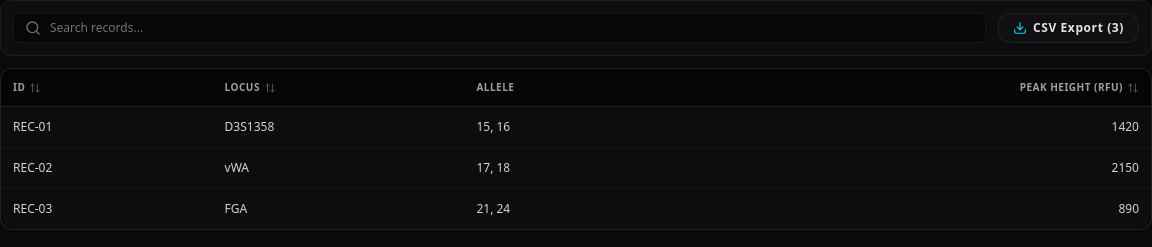
DataTable Primitive UI Component › shows empty message when no rows match query
The width and height of the screenshot is (1152, 247).
In the field with placeholder "Search records...": (500, 28) [13,13,986,43], type "NON_EXISTENT_LOCUS"
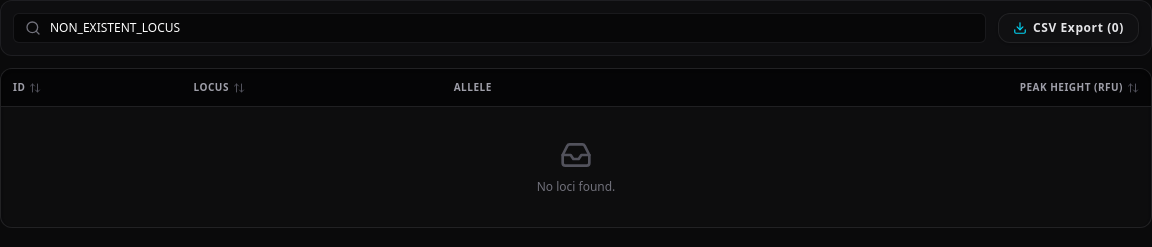
Check: the text "No loci found." is shown, box [537,179,615,195]
